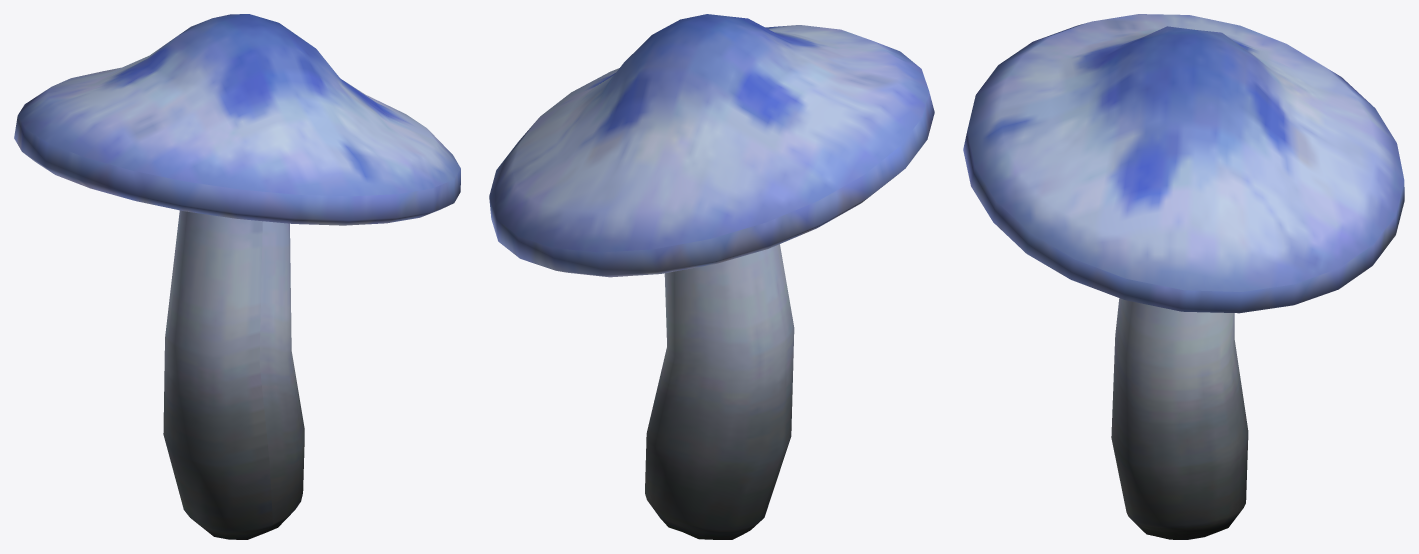
The model's file is INST_TROLLHOLE_SHROOMA4.fbx.
The picture shows the model from 3 angles, left to right: view 1: azimuth 30°, elevation 25°; view 2: azimuth 150°, elevation 25°; view 3: azimuth 270°, elevation 25°; orthographic projection. The views are drawn at different scales.
Visible parts, largest first — view 1: INST_TROLLHOLE_SHROOMA4; view 2: INST_TROLLHOLE_SHROOMA4; view 3: INST_TROLLHOLE_SHROOMA4.
Part boxes in pixels (box(x1,y1,x2,y2)): INST_TROLLHOLE_SHROOMA4: box(14, 14, 460, 539); INST_TROLLHOLE_SHROOMA4: box(489, 14, 934, 539); INST_TROLLHOLE_SHROOMA4: box(963, 14, 1404, 539).
Bounding box in the file's own units: 29754 × 37397 × 29989.
1 material, 1 textured.
